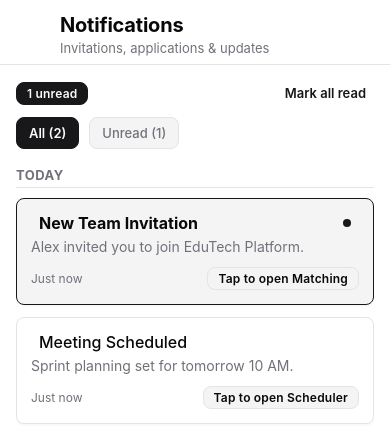
Scenario: Notifications (Phase 7 - Feature 15) › marks all notifications as read when Mark all read is pressed
Expected: the text "Notifications" is shown, [60,13,183,37]
Click the text "Mark all read". click: click(325, 93)
box: [285,85,366,101]
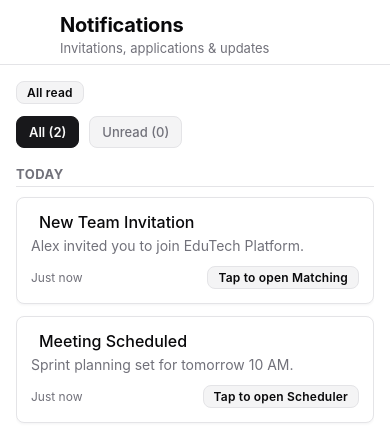
Now the text "Mark all read" is gone
